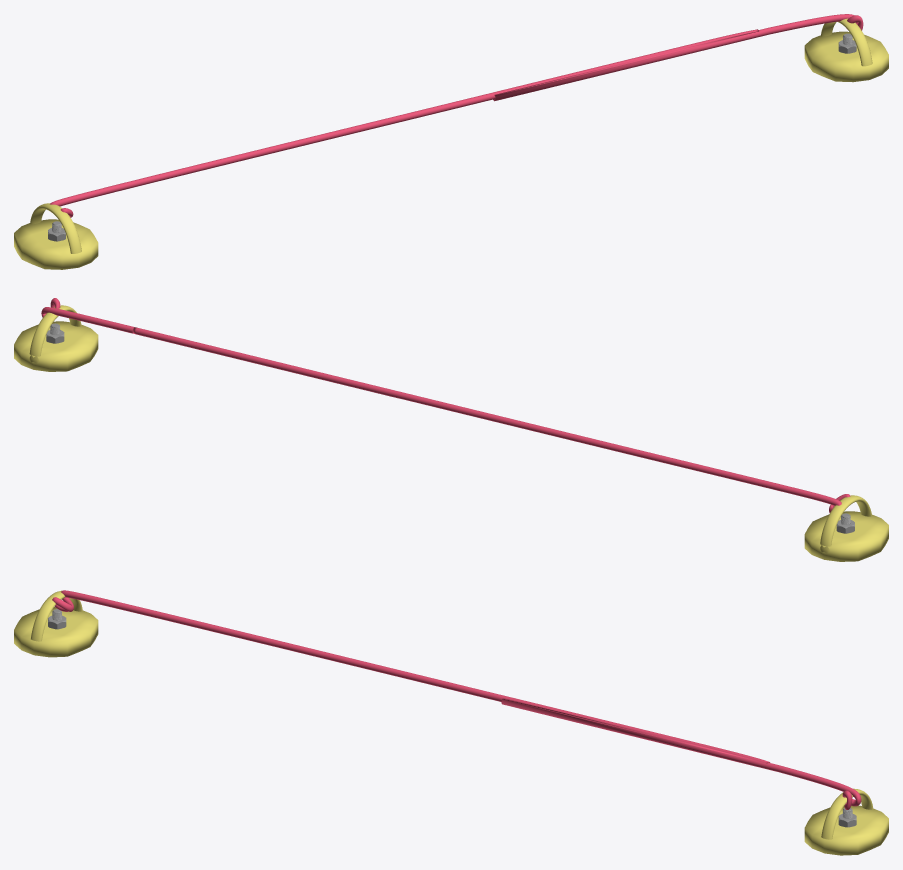
Rendered from Linea amortiguador.fbx.
The picture shows the model from 3 angles, top to bottom: view 1: azimuth 30°, elevation 25°; view 2: azimuth 150°, elevation 25°; view 3: azimuth 330°, elevation 25°; orthographic projection.
Visible parts, largest first — view 1: NurbsPath, NurbsCurve, NurbsCurve.001; view 2: NurbsPath, NurbsCurve, NurbsCurve.001; view 3: NurbsPath, NurbsCurve.001, NurbsCurve.
Boxes of the visible parts, x1=… form: NurbsPath: x1=50, y1=14, x2=863, y2=217; NurbsCurve: x1=14, y1=203, x2=98, y2=269; NurbsCurve.001: x1=804, y1=18, x2=888, y2=82; NurbsPath: x1=41, y1=298, x2=850, y2=512; NurbsCurve: x1=804, y1=495, x2=888, y2=561; NurbsCurve.001: x1=14, y1=305, x2=98, y2=371; NurbsPath: x1=52, y1=590, x2=861, y2=809; NurbsCurve.001: x1=804, y1=788, x2=888, y2=855; NurbsCurve: x1=14, y1=590, x2=98, y2=657.
Bounding box in the file's own units: 782 × 44.69 × 72.55.
